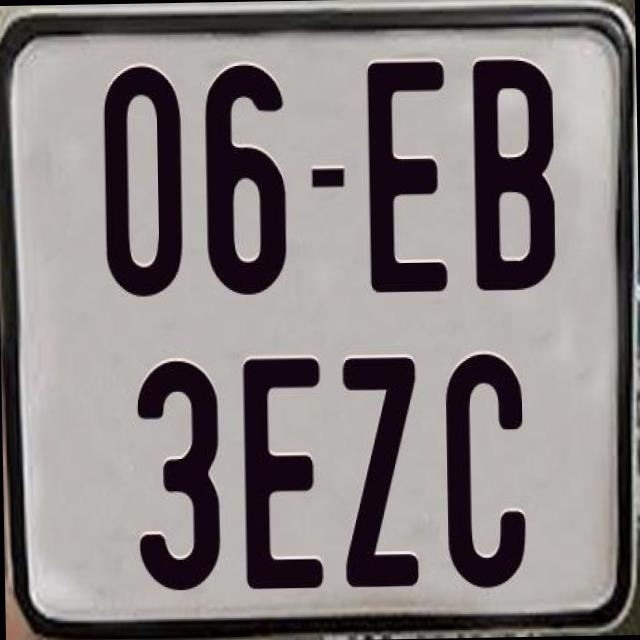0: (100, 64, 186, 304)
3: (134, 355, 226, 586)
6: (204, 62, 292, 294)
B: (469, 56, 553, 292)
C: (440, 350, 528, 591)
E: (238, 357, 326, 598), (365, 58, 449, 296)
Z: (338, 352, 422, 587)
